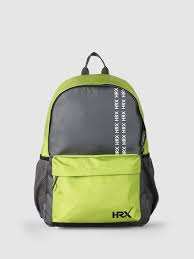backpack: (33, 51, 159, 227)
